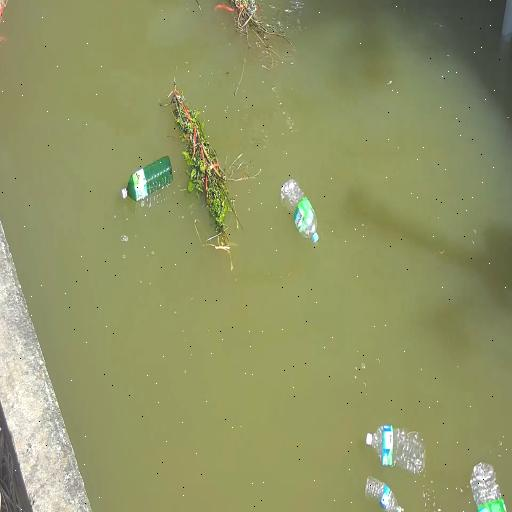plastic: (117, 152, 172, 212), (276, 180, 322, 246), (364, 424, 426, 472), (464, 449, 506, 512), (363, 470, 409, 512)
twig: (168, 85, 234, 249), (216, 0, 285, 54)
